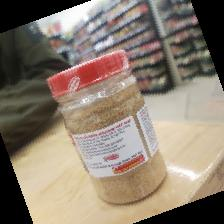Hao_hao: (46, 49, 170, 207)
